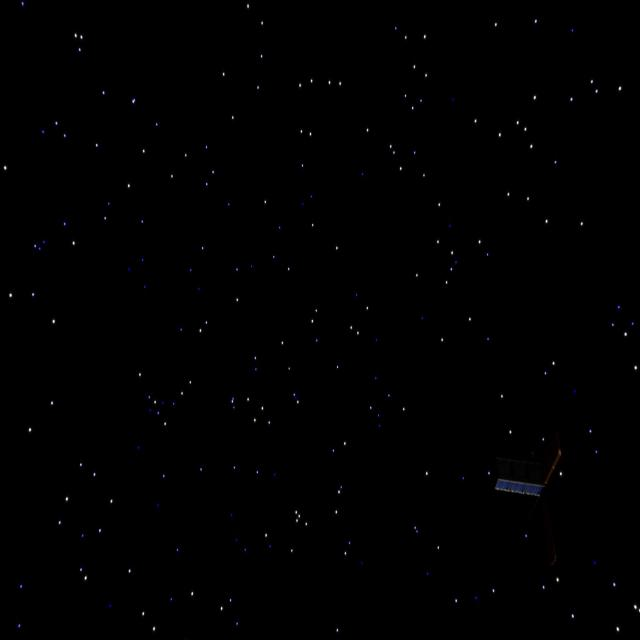satellite: (492, 442, 569, 598)
